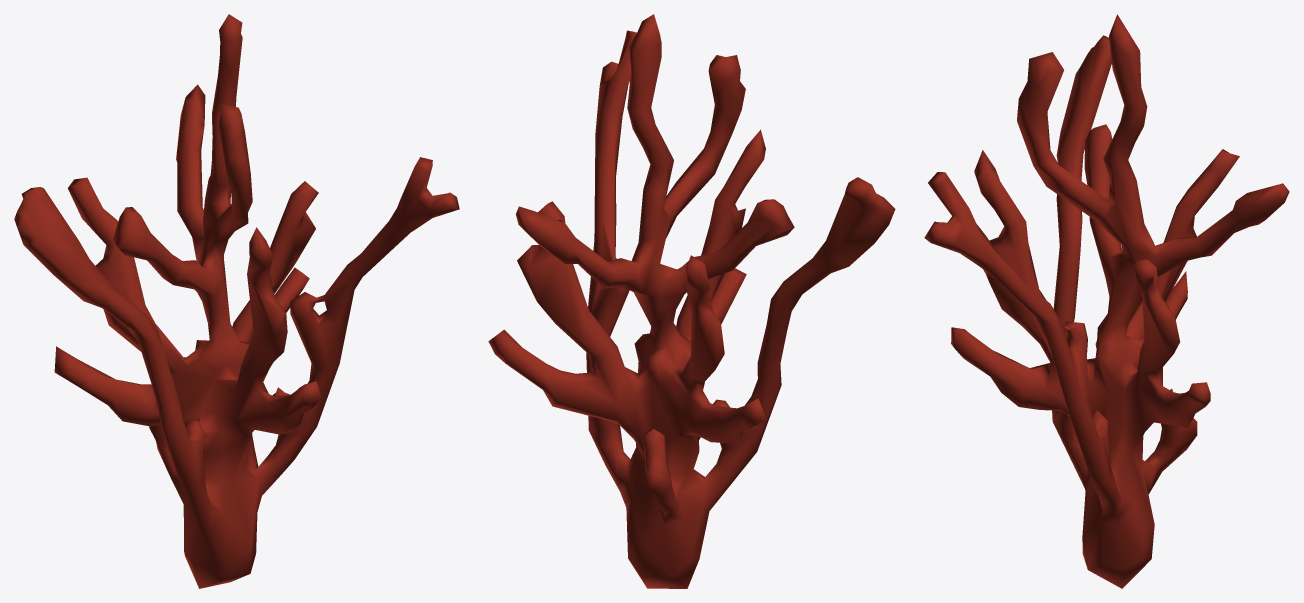
Rendered from M_Coral_Branches.fbx.
The picture shows the model from 3 angles, left to right: view 1: azimuth 30°, elevation 25°; view 2: azimuth 150°, elevation 25°; view 3: azimuth 270°, elevation 25°; orthographic projection.
Visible parts, largest first — view 1: coral_branches; view 2: coral_branches; view 3: coral_branches.
Part boxes in pixels (box(x1,y1,x2,y2)): coral_branches: box(14, 14, 459, 588); coral_branches: box(488, 14, 895, 588); coral_branches: box(924, 14, 1289, 588).
Size of the model in its own units: 12.47 by 18.64 by 10.77.
